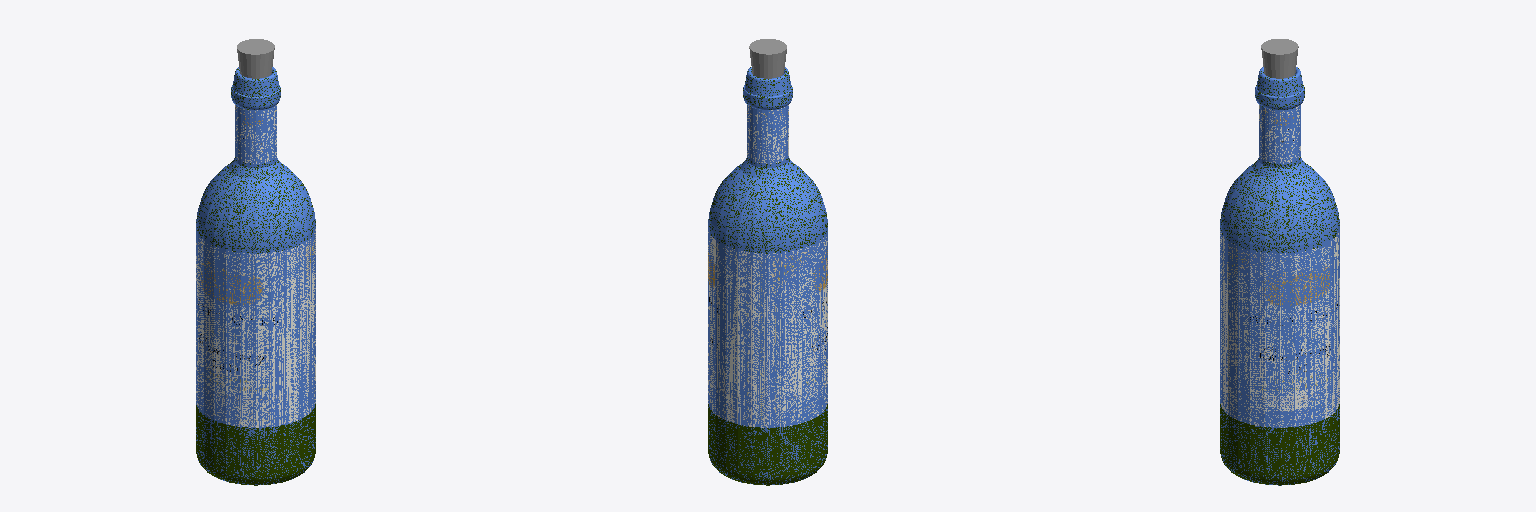
The picture shows the model from 3 angles: view 1: azimuth 30°, elevation 25°; view 2: azimuth 150°, elevation 25°; view 3: azimuth 270°, elevation 25°; orthographic projection.
Visible parts, largest first — view 1: group_0.002_ID34.020_Translucent_Glass_Blue.001_group_0.002_ID3, group_0.002_ID34.020_Wine-Label.001_group_0.002_ID34.020_Wine-L, group_0.001_ID28.001_Translucent_Glass_Blue.001_group_0.001_ID2, group_0.003_ID47.003_Translucent_Glass_Green_Dark.008_group_0.0, group_0.001_ID28.001_Translucent_Glass_Green_Dark.008_group_0.0, group_0.004_ID53.001_Translucent_Glass_Blue.001_group_0.004_ID5, group_0.003_ID47.003_Translucent_Glass_Blue.001_group_0.003_ID4, group_1_ID5.031_Wood_OSB.006_group_1_ID5.031_Wood_OSB.006_Wood_, group_0_ID18.017_Translucent_Glass_Blue.001_group_0_ID18.017_Tr; view 2: group_0.002_ID34.020_Translucent_Glass_Blue.001_group_0.002_ID3, group_0.002_ID34.020_Wine-Label.001_group_0.002_ID34.020_Wine-L, group_0.001_ID28.001_Translucent_Glass_Blue.001_group_0.001_ID2, group_0.003_ID47.003_Translucent_Glass_Green_Dark.008_group_0.0, group_0.001_ID28.001_Translucent_Glass_Green_Dark.008_group_0.0, group_0.004_ID53.001_Translucent_Glass_Blue.001_group_0.004_ID5, group_0.003_ID47.003_Translucent_Glass_Blue.001_group_0.003_ID4, group_1_ID5.031_Wood_OSB.006_group_1_ID5.031_Wood_OSB.006_Wood_, group_0_ID18.017_Translucent_Glass_Blue.001_group_0_ID18.017_Tr; view 3: group_0.002_ID34.020_Translucent_Glass_Blue.001_group_0.002_ID3, group_0.001_ID28.001_Translucent_Glass_Blue.001_group_0.001_ID2, group_0.002_ID34.020_Wine-Label.001_group_0.002_ID34.020_Wine-L, group_0.003_ID47.003_Translucent_Glass_Green_Dark.008_group_0.0, group_0.001_ID28.001_Translucent_Glass_Green_Dark.008_group_0.0, group_0.004_ID53.001_Translucent_Glass_Blue.001_group_0.004_ID5, group_0_ID18.017_Translucent_Glass_Blue.001_group_0_ID18.017_Tr, group_1_ID5.031_Wood_OSB.006_group_1_ID5.031_Wood_OSB.006_Wood_, group_0.003_ID47.003_Translucent_Glass_Blue.001_group_0.003_ID4.
Part boxes in pixels (x1,y1,x2,y2): group_0.002_ID34.020_Translucent_Glass_Blue.001_group_0.002_ID3: (196,229,315,427); group_0.002_ID34.020_Wine-Label.001_group_0.002_ID34.020_Wine-L: (196,229,315,427); group_0.001_ID28.001_Translucent_Glass_Blue.001_group_0.001_ID2: (196,157,315,253); group_0.003_ID47.003_Translucent_Glass_Green_Dark.008_group_0.0: (196,404,315,485); group_0.001_ID28.001_Translucent_Glass_Green_Dark.008_group_0.0: (196,157,315,253); group_0.004_ID53.001_Translucent_Glass_Blue.001_group_0.004_ID5: (235,105,276,163); group_0.003_ID47.003_Translucent_Glass_Blue.001_group_0.003_ID4: (196,404,315,484); group_1_ID5.031_Wood_OSB.006_group_1_ID5.031_Wood_OSB.006_Wood_: (237,39,274,78); group_0_ID18.017_Translucent_Glass_Blue.001_group_0_ID18.017_Tr: (231,67,280,109); group_0.002_ID34.020_Translucent_Glass_Blue.001_group_0.002_ID3: (708,229,827,427); group_0.002_ID34.020_Wine-Label.001_group_0.002_ID34.020_Wine-L: (708,232,827,427); group_0.001_ID28.001_Translucent_Glass_Blue.001_group_0.001_ID2: (708,157,827,253); group_0.003_ID47.003_Translucent_Glass_Green_Dark.008_group_0.0: (708,404,827,485); group_0.001_ID28.001_Translucent_Glass_Green_Dark.008_group_0.0: (709,158,827,253); group_0.004_ID53.001_Translucent_Glass_Blue.001_group_0.004_ID5: (747,105,788,163); group_0.003_ID47.003_Translucent_Glass_Blue.001_group_0.003_ID4: (708,407,827,484); group_1_ID5.031_Wood_OSB.006_group_1_ID5.031_Wood_OSB.006_Wood_: (749,39,786,78); group_0_ID18.017_Translucent_Glass_Blue.001_group_0_ID18.017_Tr: (743,67,792,109); group_0.002_ID34.020_Translucent_Glass_Blue.001_group_0.002_ID3: (1220,229,1339,427); group_0.001_ID28.001_Translucent_Glass_Blue.001_group_0.001_ID2: (1220,157,1339,253); group_0.002_ID34.020_Wine-Label.001_group_0.002_ID34.020_Wine-L: (1220,231,1339,427); group_0.003_ID47.003_Translucent_Glass_Green_Dark.008_group_0.0: (1220,404,1339,485); group_0.001_ID28.001_Translucent_Glass_Green_Dark.008_group_0.0: (1220,157,1339,252); group_0.004_ID53.001_Translucent_Glass_Blue.001_group_0.004_ID5: (1259,105,1300,163); group_0_ID18.017_Translucent_Glass_Blue.001_group_0_ID18.017_Tr: (1255,67,1304,109); group_1_ID5.031_Wood_OSB.006_group_1_ID5.031_Wood_OSB.006_Wood_: (1261,39,1298,78); group_0.003_ID47.003_Translucent_Glass_Blue.001_group_0.003_ID4: (1220,407,1339,485).
Size of the model in its own units: 0.0937 by 0.362 by 0.0937.
Materials: 4 (1 with a texture image).